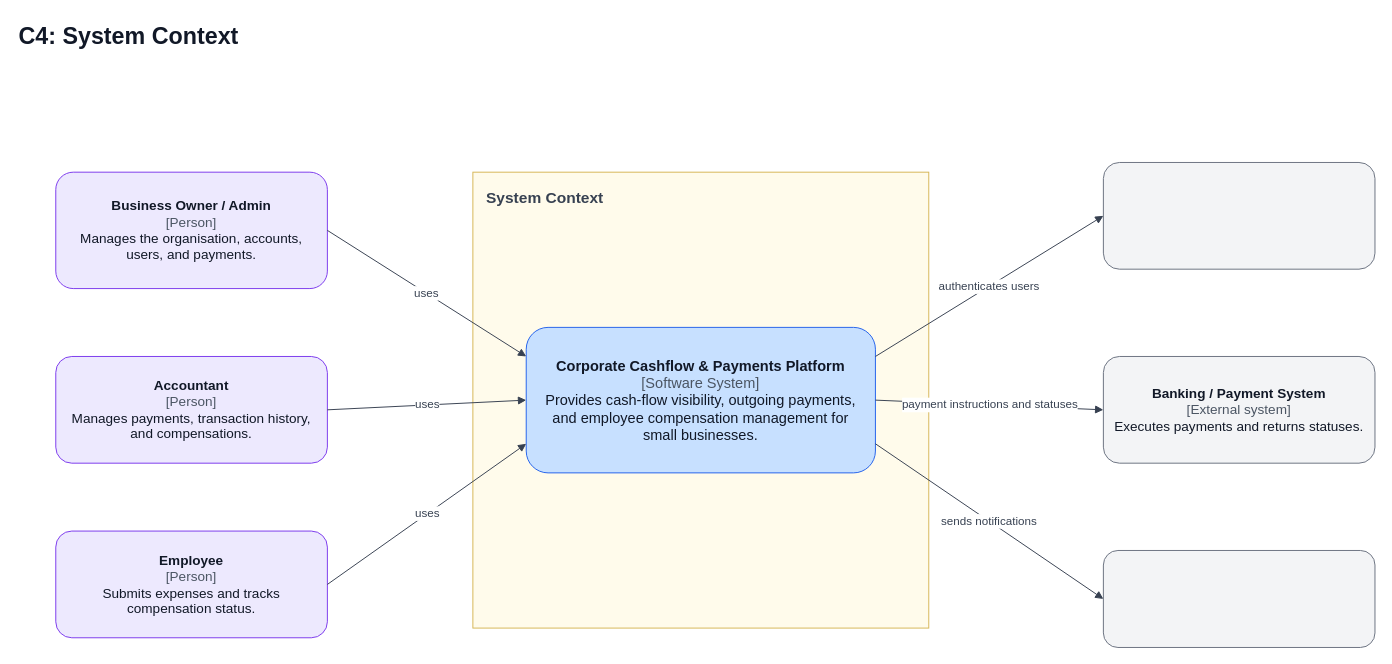
The diagram is 1392 pixels wide and 664 high, and some of its shapes have lost their labels. The shapes that lost their labels are listed below. From the top down, each one's centre as x and y in pixels, then its label:
At point (1238, 215): "Auth Service [External system] Authenticates users and issues tokens.".
At point (1238, 598): "Notification Service [External service] Delivers notifications to users.".
